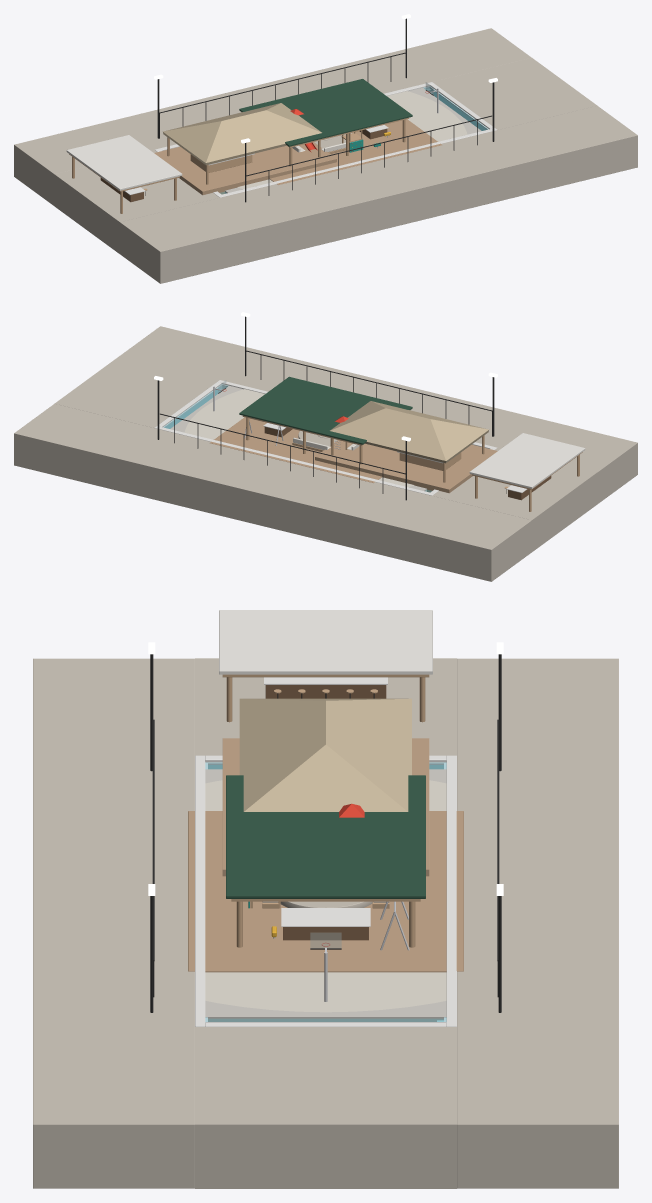
Rendered from amenities.glb.
3 views of the same model, one above another, from view 1: azimuth 30°, elevation 25°; view 2: azimuth 150°, elevation 25°; view 3: azimuth 270°, elevation 25° (orthographic). The views are drawn at different scales.
Visible parts, largest first — view 1: pool_deck_s, pool_deck_n, pool_deck_e, pool_deck_w, bc_thatch, lounge_roof, bc_deck, bar_roof_cap, lounge_deck, garden_path, coping_s, court_base (+4 smaller); view 2: pool_deck_n, pool_deck_s, pool_deck_e, pool_deck_w, bc_thatch, lounge_roof, bc_deck, bar_roof_cap, lounge_deck, garden_path, coping_n, court_base (+4 smaller); view 3: pool_deck_n, pool_deck_s, pool_deck_e, bc_thatch, lounge_deck, lounge_roof, bar_roof_cap, garden_path, pool_deck_w, court_base, coping_n, coping_s (+8 smaller).
Boxes of the visible parts, x1=… form: pool_deck_s: x1=120, y1=106, x2=637, y2=283; pool_deck_n: x1=14, y1=28, x2=531, y2=205; pool_deck_e: x1=432, y1=58, x2=597, y2=129; pool_deck_w: x1=54, y1=150, x2=219, y2=253; bc_thatch: x1=163, y1=103, x2=321, y2=165; lounge_roof: x1=239, y1=79, x2=412, y2=146; bc_deck: x1=154, y1=142, x2=336, y2=195; bar_roof_cap: x1=66, y1=135, x2=182, y2=190; lounge_deck: x1=270, y1=119, x2=441, y2=184; garden_path: x1=237, y1=91, x2=467, y2=188; coping_s: x1=217, y1=128, x2=496, y2=197; court_base: x1=225, y1=87, x2=481, y2=193; pool_deck_n: x1=14, y1=404, x2=531, y2=581; pool_deck_s: x1=120, y1=326, x2=637, y2=503; pool_deck_e: x1=54, y1=356, x2=219, y2=427; pool_deck_w: x1=432, y1=448, x2=597, y2=551; bc_thatch: x1=330, y1=401, x2=488, y2=463; lounge_roof: x1=239, y1=376, x2=412, y2=444; bc_deck: x1=315, y1=440, x2=497, y2=493; bar_roof_cap: x1=469, y1=433, x2=585, y2=488; lounge_deck: x1=210, y1=417, x2=381, y2=482; garden_path: x1=184, y1=389, x2=414, y2=486; coping_n: x1=155, y1=426, x2=434, y2=495; court_base: x1=170, y1=385, x2=426, y2=491; pool_deck_n: x1=457, y1=658, x2=618, y2=1188; pool_deck_s: x1=33, y1=658, x2=194, y2=1188; pool_deck_e: x1=195, y1=1027, x2=456, y2=1188; bc_thatch: x1=239, y1=698, x2=411, y2=811; lounge_deck: x1=188, y1=811, x2=463, y2=972; lounge_roof: x1=226, y1=775, x2=425, y2=898; bar_roof_cap: x1=219, y1=610, x2=432, y2=674; garden_path: x1=205, y1=780, x2=446, y2=1012; pool_deck_w: x1=195, y1=658, x2=456, y2=762; court_base: x1=205, y1=769, x2=446, y2=1021; coping_n: x1=446, y1=755, x2=456, y2=1026; coping_s: x1=195, y1=755, x2=205, y2=1026.
Size of the model in its own units: 64 by 12.1 by 34.
